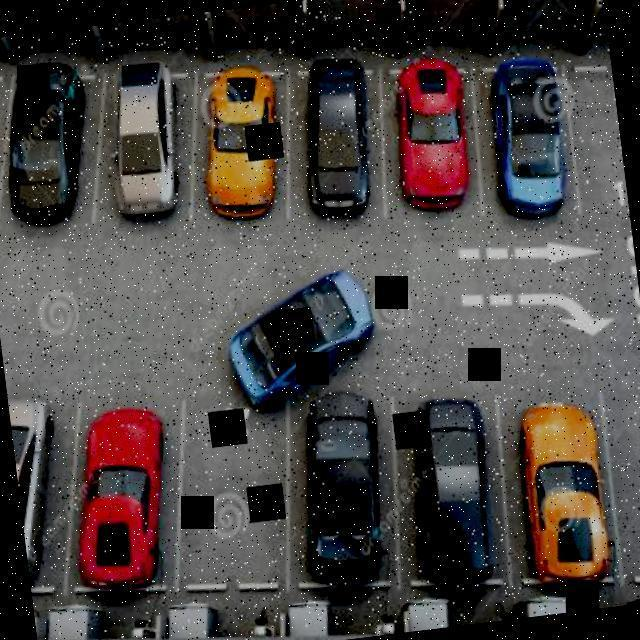car: (490, 362, 640, 599), (190, 238, 390, 411), (267, 366, 408, 605), (50, 386, 190, 610), (386, 388, 524, 604), (86, 44, 202, 248), (472, 36, 592, 232), (178, 53, 298, 245), (0, 50, 114, 245), (378, 40, 489, 232), (282, 37, 391, 224), (4, 364, 83, 595)
free: (168, 400, 300, 604), (566, 66, 632, 242), (590, 388, 640, 578)
